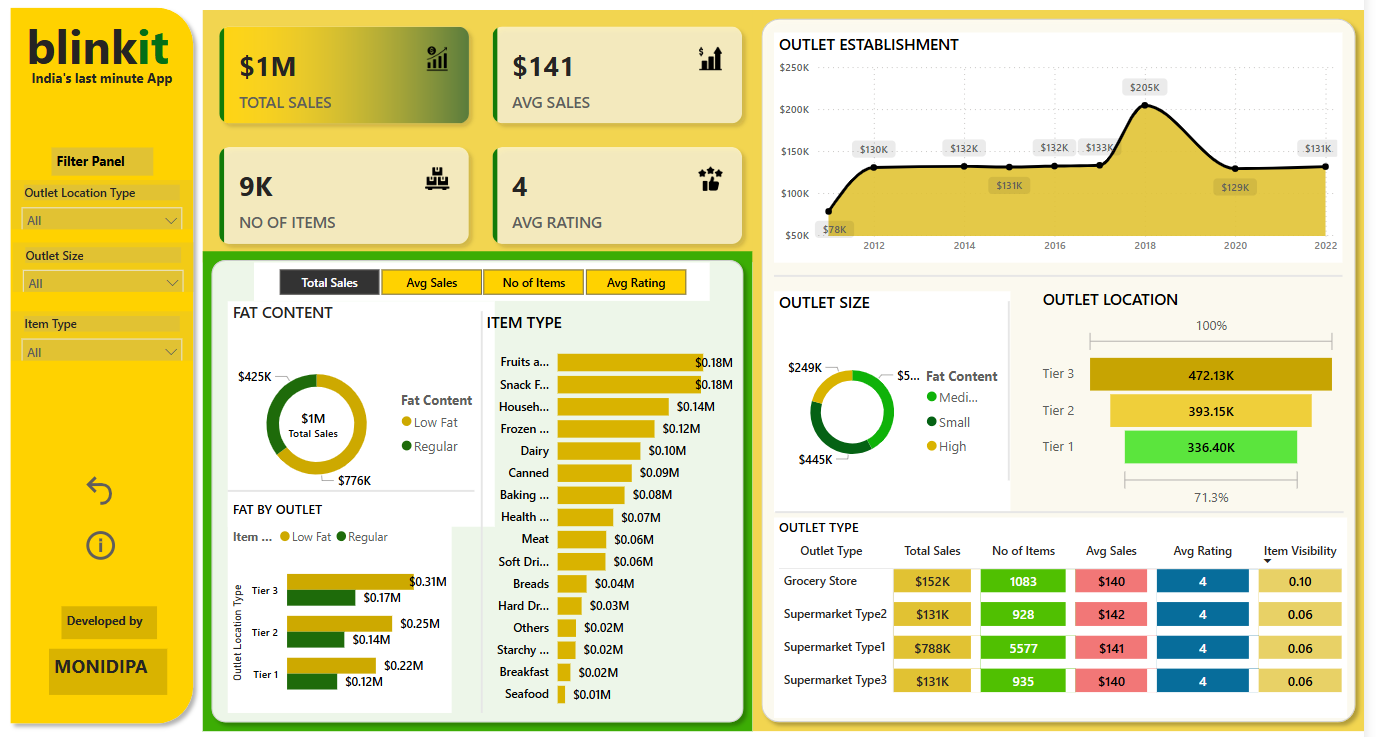

The dashboard page shown, as its layout file describes it:
{"tool":"powerbi","page":{"name":"Page 1","canvas":[1400,800],"ordinal":0},"visuals":[{"type":"shape","box":[7.9,23.7,205.1,749.6],"z":0},{"type":"textbox","box":[28.4,34.7,164.1,77.3],"z":1000},{"type":"textbox","box":[33.5,91.2,179.6,41.6],"z":2000},{"type":"cardVisual","fields":{"Data":["BlinkIT Grocery Data.Total Sales","BlinkIT Grocery Data.Avg Sales","BlinkIT Grocery Data.No of Items","BlinkIT Grocery Data.Avg Rating"]},"box":[213,36.3,569.7,257.2],"z":3000},{"type":"shape","box":[213,282.5,561.8,490.8],"z":4000},{"type":"donutChart","title":"FAT CONTENT","fields":{"Y":["BlinkIT Grocery Data.Total Sales"],"Category":["BlinkIT Grocery Data.Item Fat Content"]},"box":[238.3,333,273,230.4],"z":5000},{"type":"slicer","fields":{"Values":["Metrics.Metrics"]},"box":[265.1,293.5,465.5,39.5],"z":6000},{"type":"cardVisual","fields":{"Data":["BlinkIT Grocery Data.Total Sales"]},"box":[265.1,418.2,121.5,82.1],"z":7000},{"type":"clusteredBarChart","title":"FAT BY OUTLET","fields":{"Y":["BlinkIT Grocery Data.Total Sales"],"Category":["BlinkIT Grocery Data.Outlet Location Type"],"Series":["BlinkIT Grocery Data.Item Fat Content"]},"box":[238.3,536.5,228.8,217.8],"z":8000},{"type":"shape","box":[238.3,501.8,252.5,50.5],"z":9000},{"type":"shape","box":[449.7,344,97.8,410.3],"z":10000},{"type":"barChart","title":"ITEM TYPE","fields":{"Y":["BlinkIT Grocery Data.Total Sales"],"Category":["BlinkIT Grocery Data.Item Type"]},"box":[498.7,344,262,415],"z":11000},{"type":"shape","box":[774.8,36.3,624.9,736.9],"z":12000},{"type":"lineChart","title":"OUTLET ESTABLISHMENT","fields":{"Y":["BlinkIT Grocery Data.Total Sales"],"Category":["BlinkIT Grocery Data.Outlet Establishment Year"]},"box":[796.9,58.4,580.7,235.1],"z":13000},{"type":"shape","box":[796.9,282.5,580.7,50.5],"z":14000},{"type":"donutChart","title":"OUTLET SIZE","fields":{"Y":["BlinkIT Grocery Data.Total Sales"],"Category":["BlinkIT Grocery Data.Outlet Size"]},"box":[796.9,323.5,241.4,225.7],"z":15000},{"type":"shape","box":[910.5,333,252.5,183.1],"z":16000},{"type":"funnel","title":"OUTLET LOCATION","fields":{"Category":["BlinkIT Grocery Data.Outlet Location Type"],"Y":["Sum(BlinkIT Grocery Data.Sales)"]},"box":[1066.7,318.8,310.9,230.4],"z":17000},{"type":"pivotTable","title":"OUTLET TYPE","fields":{"Rows":["BlinkIT Grocery Data.Outlet Type"],"Values":["BlinkIT Grocery Data.Total Sales","BlinkIT Grocery Data.No of Items","BlinkIT Grocery Data.Avg Sales","BlinkIT Grocery Data.Avg Rating","Avg(BlinkIT Grocery Data.Item Visibility)"]},"box":[796.9,553.9,585.4,205.1],"z":18000},{"type":"shape","box":[798.5,457.6,580.7,183.1],"z":19000},{"type":"slicer","fields":{"Values":["BlinkIT Grocery Data.Outlet Location Type"]},"box":[17.4,209.9,184.6,50.5],"z":20000},{"type":"slicer","fields":{"Values":["BlinkIT Grocery Data.Outlet Size"]},"box":[18.9,273,184.6,50.5],"z":21000},{"type":"slicer","fields":{"Values":["BlinkIT Grocery Data.Item Type"]},"box":[17.4,344,184.6,50.5],"z":22000},{"type":"textbox","box":[58.4,176.7,104.1,28.4],"z":23000},{"type":"actionButton","box":[89.9,563.4,44.2,39.5],"z":24000},{"type":"textbox","box":[68.4,644.8,97.9,33.5],"z":25000},{"type":"textbox","box":[56.3,689,120.6,46.9],"z":26000},{"type":"actionButton","box":[88.4,506.5,44.2,39.5],"z":27000}]}

Visuals, with their boxes in screenshot pixels (x1, y1, x2, y2):
shape: (left=0, top=0, right=198, bottom=728)
textbox: (left=17, top=5, right=178, bottom=81)
textbox: (left=22, top=61, right=198, bottom=101)
cardVisual - BlinkIT Grocery Data.Total Sales x BlinkIT Grocery Data.Avg Sales: (left=198, top=7, right=755, bottom=259)
shape: (left=198, top=248, right=748, bottom=728)
"FAT CONTENT" donutChart: (left=222, top=297, right=490, bottom=523)
slicer - Metrics.Metrics: (left=249, top=259, right=704, bottom=297)
cardVisual - BlinkIT Grocery Data.Total Sales: (left=249, top=381, right=368, bottom=461)
"FAT BY OUTLET" clusteredBarChart: (left=222, top=496, right=446, bottom=710)
shape: (left=222, top=462, right=470, bottom=512)
shape: (left=429, top=308, right=525, bottom=710)
"ITEM TYPE" barChart: (left=477, top=308, right=734, bottom=714)
shape: (left=748, top=7, right=1359, bottom=728)
"OUTLET ESTABLISHMENT" lineChart: (left=769, top=28, right=1338, bottom=259)
shape: (left=769, top=248, right=1338, bottom=297)
"OUTLET SIZE" donutChart: (left=769, top=288, right=1006, bottom=509)
shape: (left=880, top=297, right=1128, bottom=476)
"OUTLET LOCATION" funnel: (left=1033, top=283, right=1338, bottom=509)
"OUTLET TYPE" pivotTable: (left=769, top=513, right=1342, bottom=714)
shape: (left=771, top=419, right=1339, bottom=598)
slicer - BlinkIT Grocery Data.Outlet Location Type: (left=6, top=177, right=187, bottom=226)
slicer - BlinkIT Grocery Data.Outlet Size: (left=8, top=239, right=188, bottom=288)
slicer - BlinkIT Grocery Data.Item Type: (left=6, top=308, right=187, bottom=357)
textbox: (left=46, top=144, right=148, bottom=172)
actionButton: (left=77, top=523, right=120, bottom=561)
textbox: (left=56, top=602, right=152, bottom=635)
textbox: (left=44, top=646, right=162, bottom=692)
actionButton: (left=76, top=467, right=119, bottom=506)
